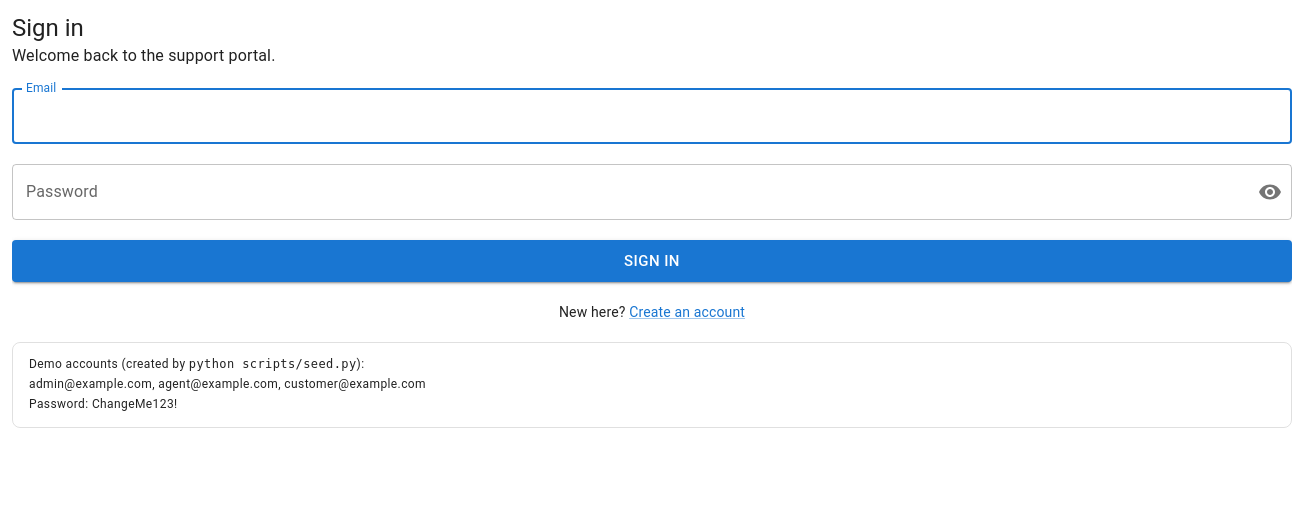
Test: Login page › explains when the server is unreachable
This screenshot has width=1304, height=513.
Step 1. Type "casey@example.com" into the field labelled "Email" → [652, 116], box top-left (12, 88), bottom-right (1292, 144)
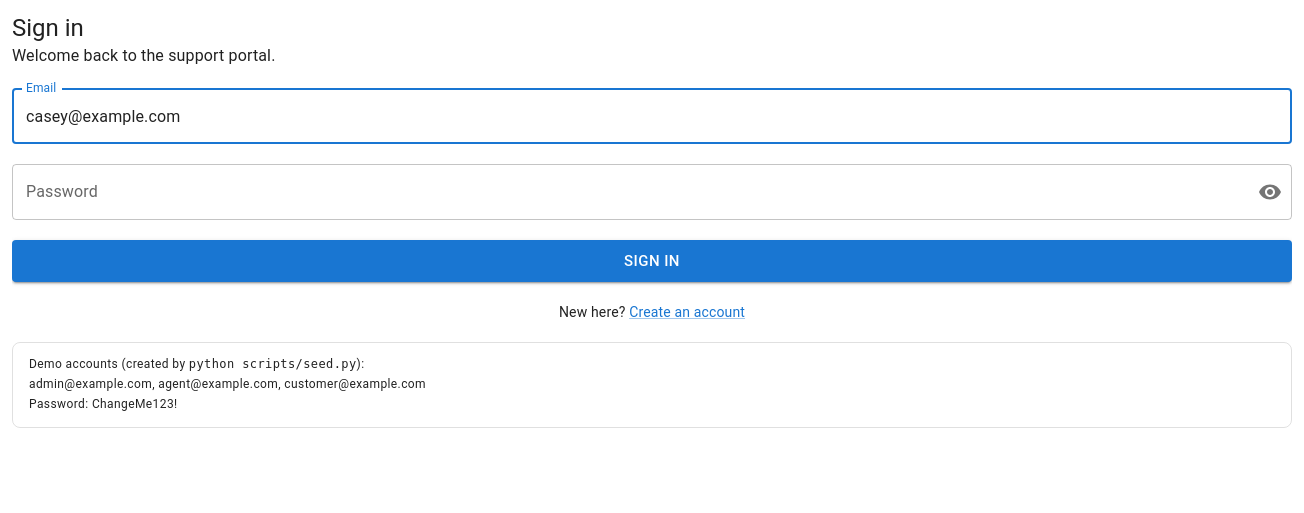
Step 2. Type "Password123" into the password field labelled "Password" → [627, 192], box top-left (12, 164), bottom-right (1242, 220)
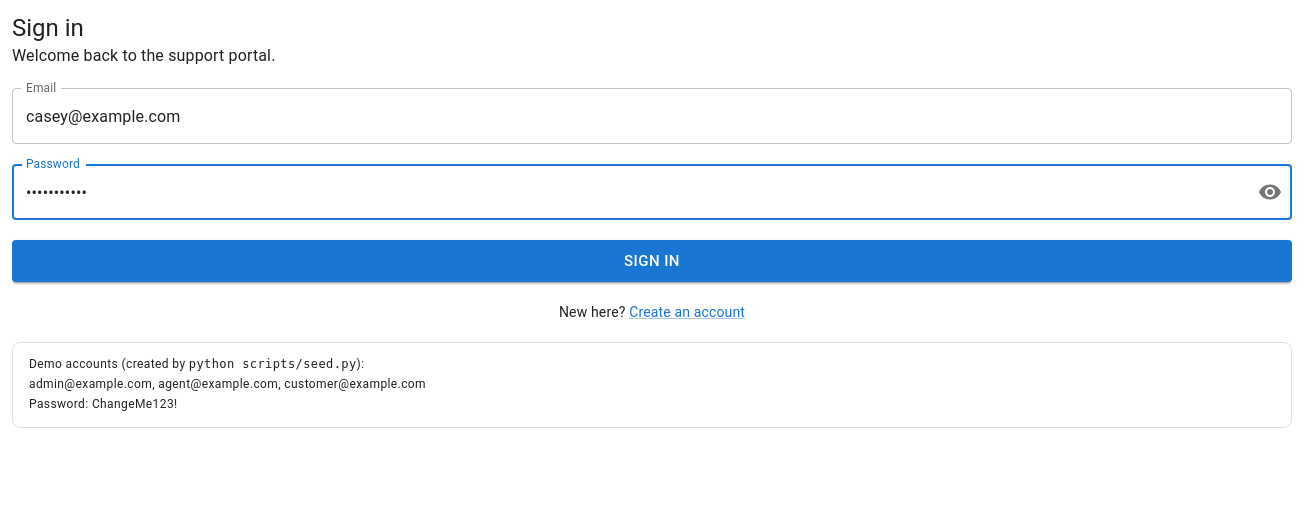
Step 3. Click the button "Sign in" → [652, 261], box top-left (12, 240), bottom-right (1292, 282)
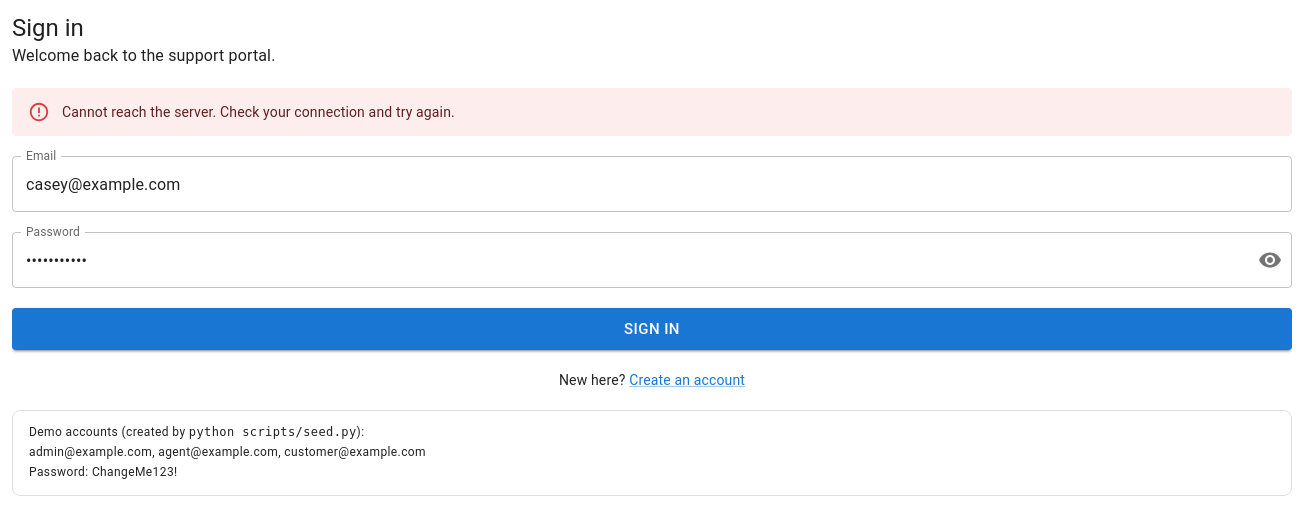
Result: the message shows "Cannot reach the server" at top-left (62, 104), bottom-right (455, 120)
